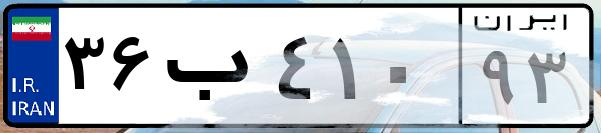0: (385, 28, 445, 110)
1: (330, 28, 385, 110)
3: (57, 26, 110, 100), (525, 38, 570, 115)
4: (270, 28, 330, 110)
6: (110, 28, 158, 98)
9: (475, 38, 525, 113)
ب: (158, 20, 270, 120)
